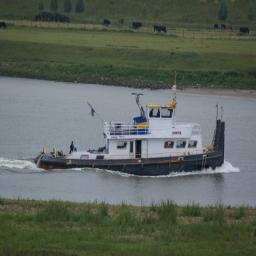tugboat: (31, 91, 228, 183)
